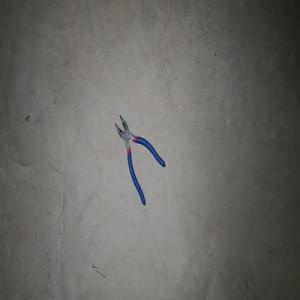Pliers: (114, 114, 165, 206)
